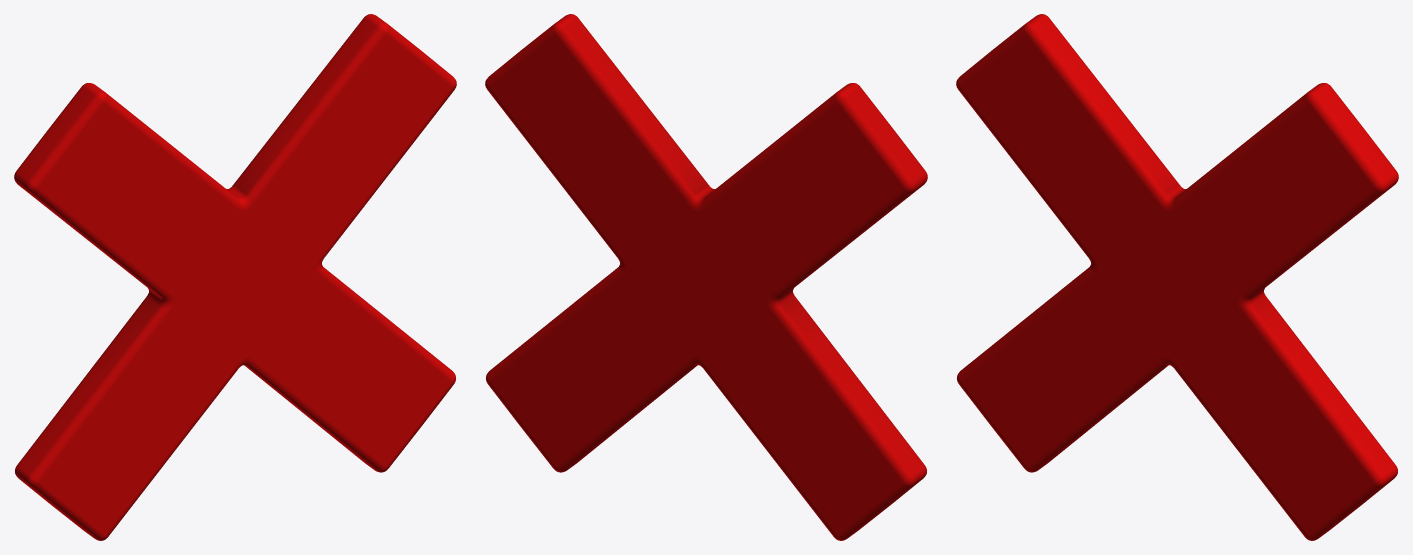
3 views of the same model, side by side, from view 1: azimuth 30°, elevation 25°; view 2: azimuth 150°, elevation 25°; view 3: azimuth 330°, elevation 25° (orthographic).
Visible parts, largest first — view 1: multiplication_sign.1; view 2: multiplication_sign.1; view 3: multiplication_sign.1.
Part boxes in pixels (box(x1,y1,x2,y2)): multiplication_sign.1: box(14, 14, 456, 540); multiplication_sign.1: box(485, 14, 927, 540); multiplication_sign.1: box(956, 14, 1398, 540).
Bounding box in the file's own units: 0.2803 × 0.2798 × 0.0222.
Materials: 1 (1 with a texture image).
